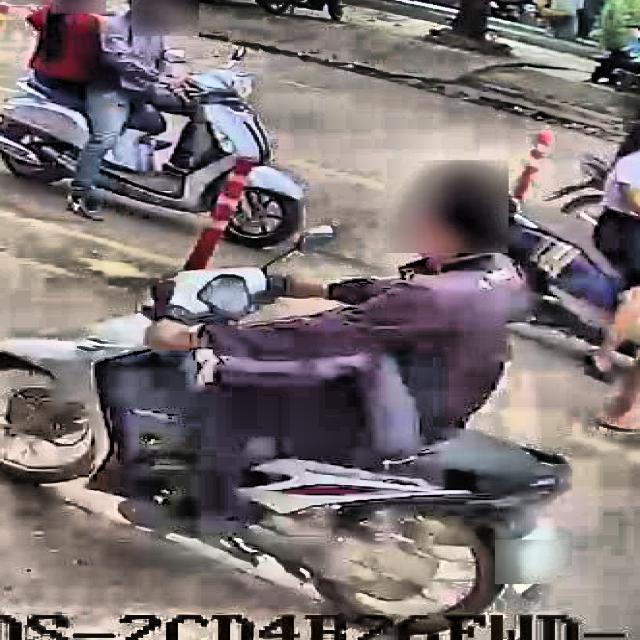motorcycle: (0, 224, 562, 632), (0, 50, 298, 249)
